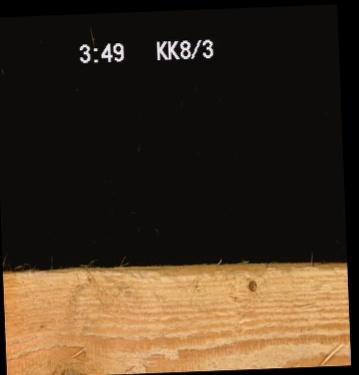dry_knot: (245, 276, 256, 292)
wave: (44, 262, 346, 276)
